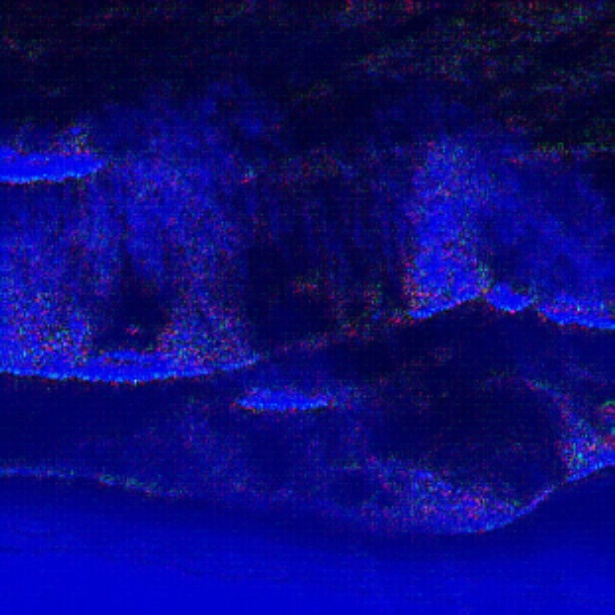rip_current: (190, 58, 444, 443)
